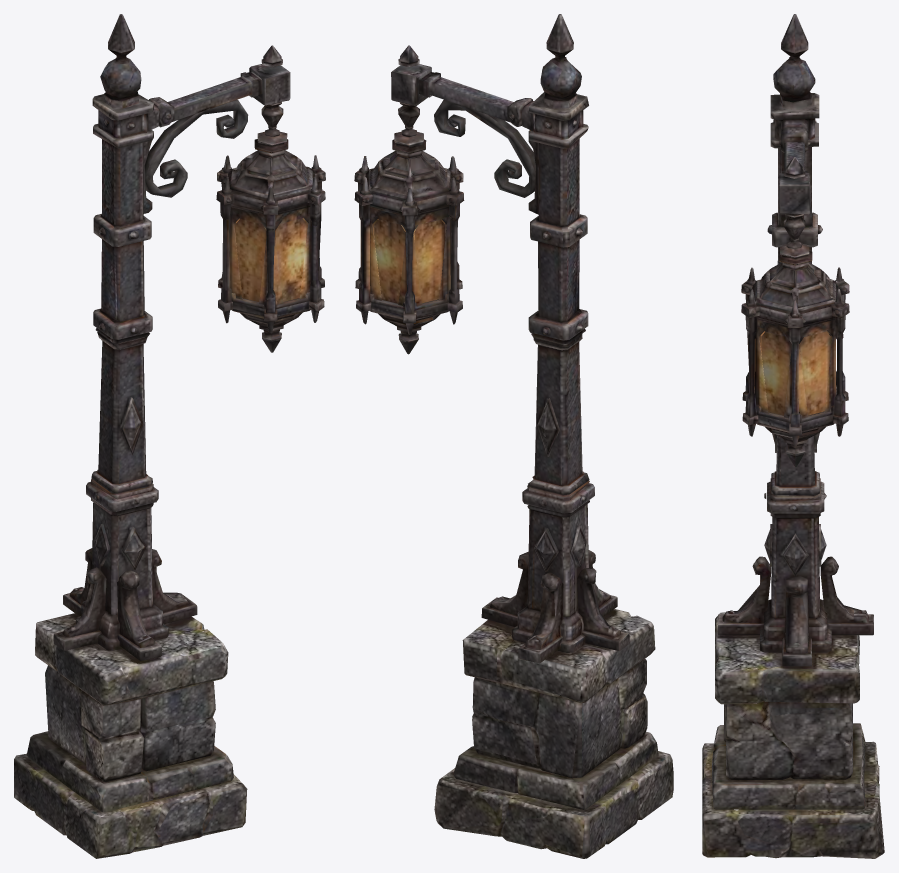
File: prop_lantern.glb
The picture shows the model from 3 angles, left to right: view 1: azimuth 30°, elevation 25°; view 2: azimuth 150°, elevation 25°; view 3: azimuth 270°, elevation 25°; orthographic projection.
Parts seen in each view (by area): view 1: tripo_node_8bab77fa-1973-42b9-b2ef-ede3db858804; view 2: tripo_node_8bab77fa-1973-42b9-b2ef-ede3db858804; view 3: tripo_node_8bab77fa-1973-42b9-b2ef-ede3db858804.
Part boxes in pixels (bbox=[...]): tripo_node_8bab77fa-1973-42b9-b2ef-ede3db858804: bbox=[14, 14, 325, 858]; tripo_node_8bab77fa-1973-42b9-b2ef-ede3db858804: bbox=[354, 14, 673, 858]; tripo_node_8bab77fa-1973-42b9-b2ef-ede3db858804: bbox=[702, 14, 884, 858].
Size of the model in its own units: 0.354 by 0.9995 by 0.2056.
Materials: 1 (1 with a texture image).
